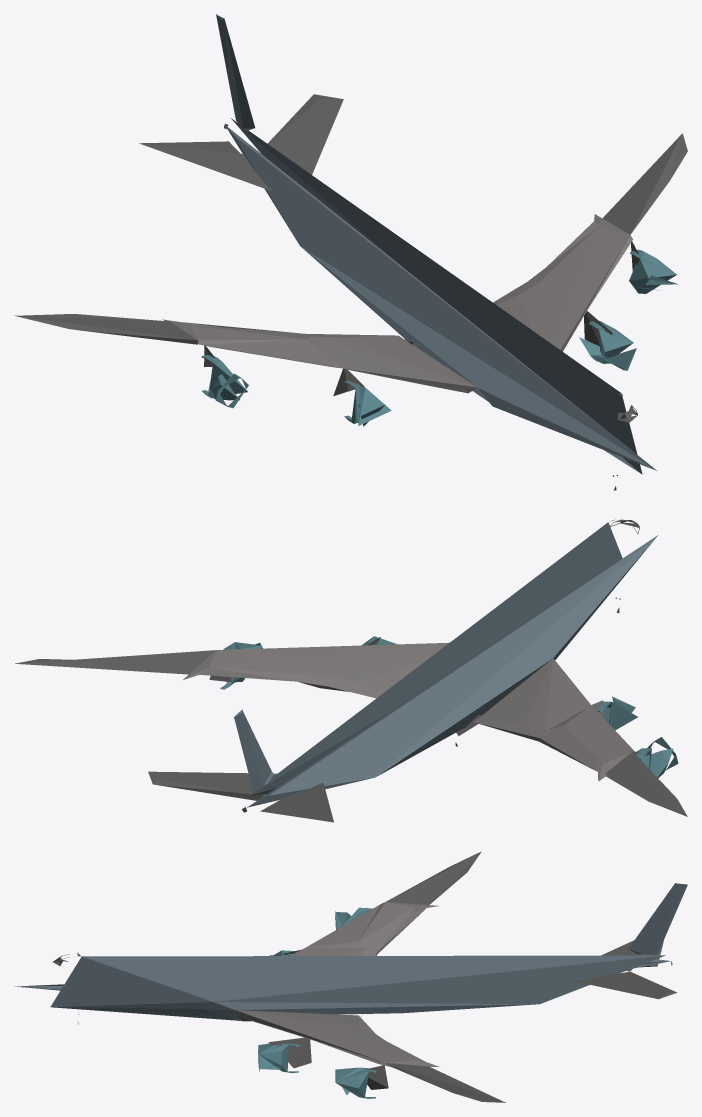
3 views of the same model, one above another, from view 1: azimuth 30°, elevation 25°; view 2: azimuth 150°, elevation 25°; view 3: azimuth 270°, elevation 25° (orthographic). The views are drawn at different scales.
Parts seen in each view (by area): view 1: Object_4; view 2: Object_4; view 3: Object_4.
Boxes of the visible parts, box(x1,y1,x2,y2) form: Object_4: box(14, 14, 687, 490); Object_4: box(15, 519, 687, 822); Object_4: box(14, 851, 687, 1102).
Size of the model in its own units: 15.29 by 4 by 17.09.
